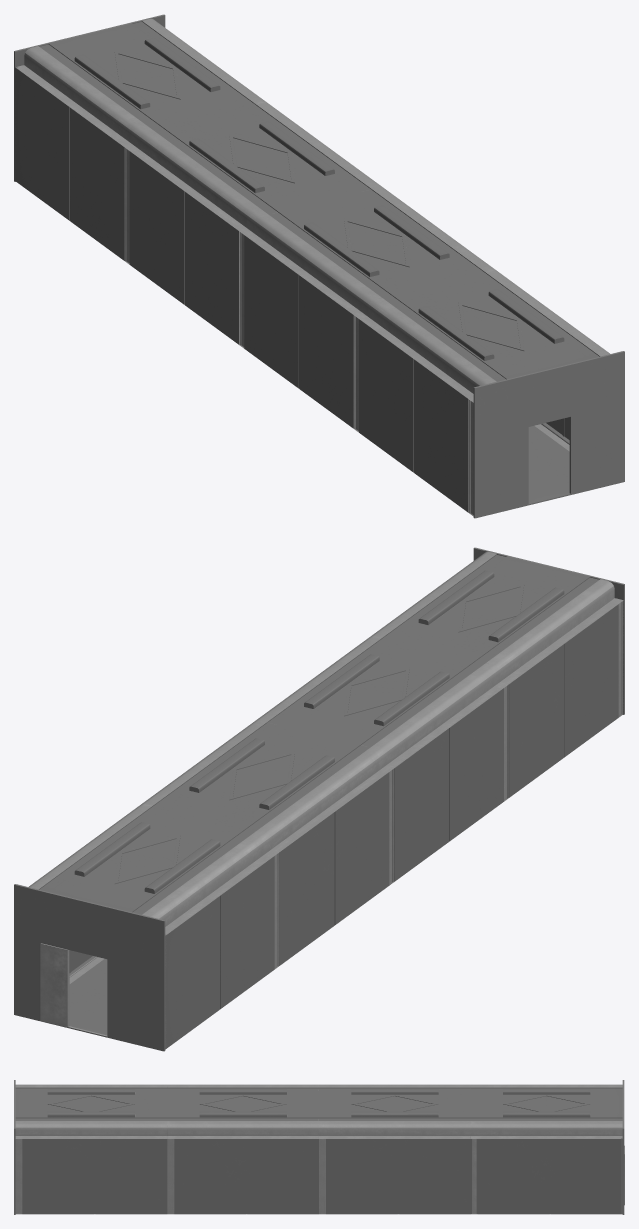
The model's file is kazu.fbx.
The picture shows the model from 3 angles, top to bottom: view 1: azimuth 30°, elevation 25°; view 2: azimuth 150°, elevation 25°; view 3: azimuth 270°, elevation 25°; orthographic projection. The views are drawn at different scales.
Visible parts, largest first — view 1: ceiling2, ceiling1, ceiling3, ceiling, start_wall, wall, wall2, wall3, wall1, floor, end_wall; view 2: end_wall, ceiling1, ceiling2, ceiling, ceiling3, wall3, wall1, wall2, wall, floor3, start_wall; view 3: wall, wall2, wall1, wall3, ceiling, ceiling1, ceiling2, ceiling3, end_wall, start_wall.
Part boxes in pixels (x1,y1,x2,y2): ceiling2: (130,103,381,234); ceiling1: (244,186,496,318); ceiling3: (16,19,267,150); ceiling: (359,270,609,402); start_wall: (473,351,624,518); wall: (359,319,569,514); wall2: (129,151,244,346); wall3: (15,67,129,262); wall1: (244,235,358,430); floor: (413,423,569,516); end_wall: (14,14,165,181); end_wall: (14,884,166,1051); ceiling1: (257,636,508,767); ceiling2: (142,719,394,851); ceiling: (371,552,623,683); ceiling3: (29,803,279,934); wall3: (69,852,279,1049); wall1: (394,684,509,881); wall2: (280,768,394,965); wall: (509,600,623,797); floor3: (69,956,279,1035); start_wall: (473,547,624,714); wall: (15,1139,167,1214); wall2: (319,1139,470,1214); wall1: (167,1139,318,1214); wall3: (471,1139,620,1214); ceiling: (15,1084,167,1138); ceiling1: (167,1084,318,1138); ceiling2: (319,1084,470,1138); ceiling3: (471,1084,622,1138); end_wall: (621,1080,624,1214); start_wall: (14,1080,15,1214).
Bounding box in the file's own units: 377 × 323 × 2004.
